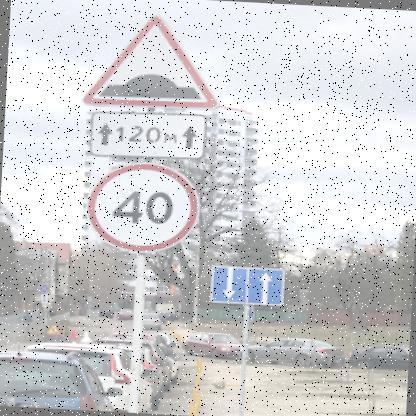speedlimit: (82, 158, 200, 254)
